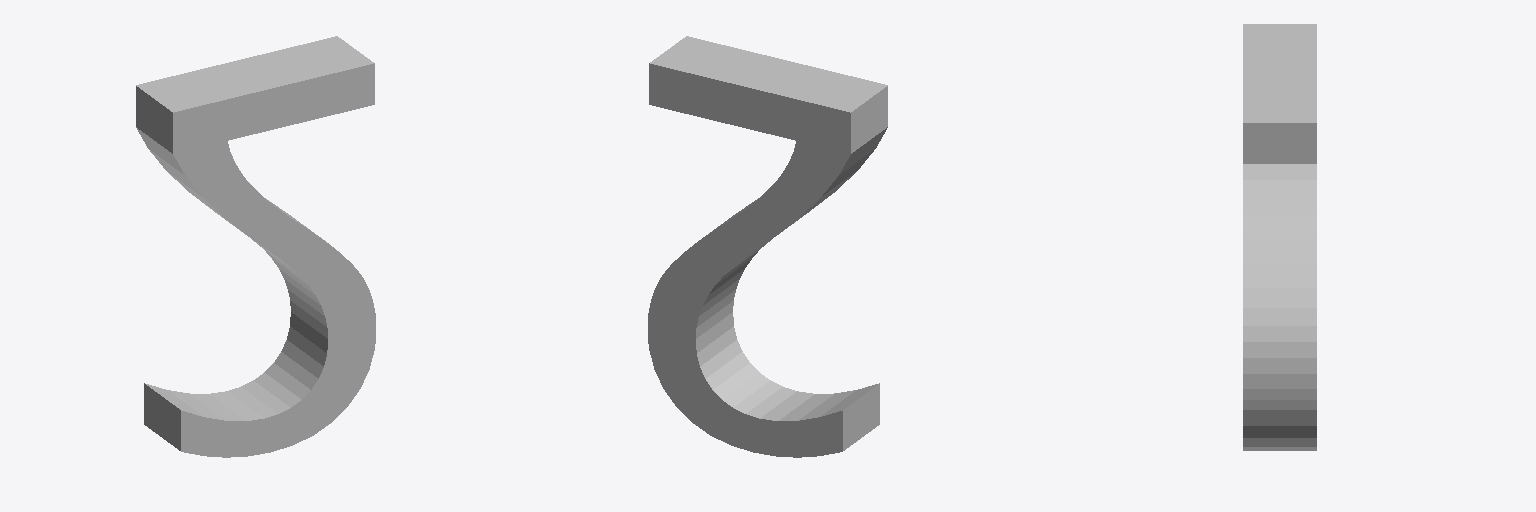
Rendered from Number2.obj.
The picture shows the model from 3 angles: view 1: azimuth 30°, elevation 25°; view 2: azimuth 150°, elevation 25°; view 3: azimuth 270°, elevation 25°; orthographic projection.
Visible parts, largest first — view 1: typeMesh1; view 2: typeMesh1; view 3: typeMesh1.
Part boxes in pixels (x1,y1,x2,y2): typeMesh1: (136, 36, 375, 457); typeMesh1: (648, 36, 887, 457); typeMesh1: (1243, 24, 1316, 450).
Bounding box in the file's own units: 0.8031 × 1.37 × 0.2559.